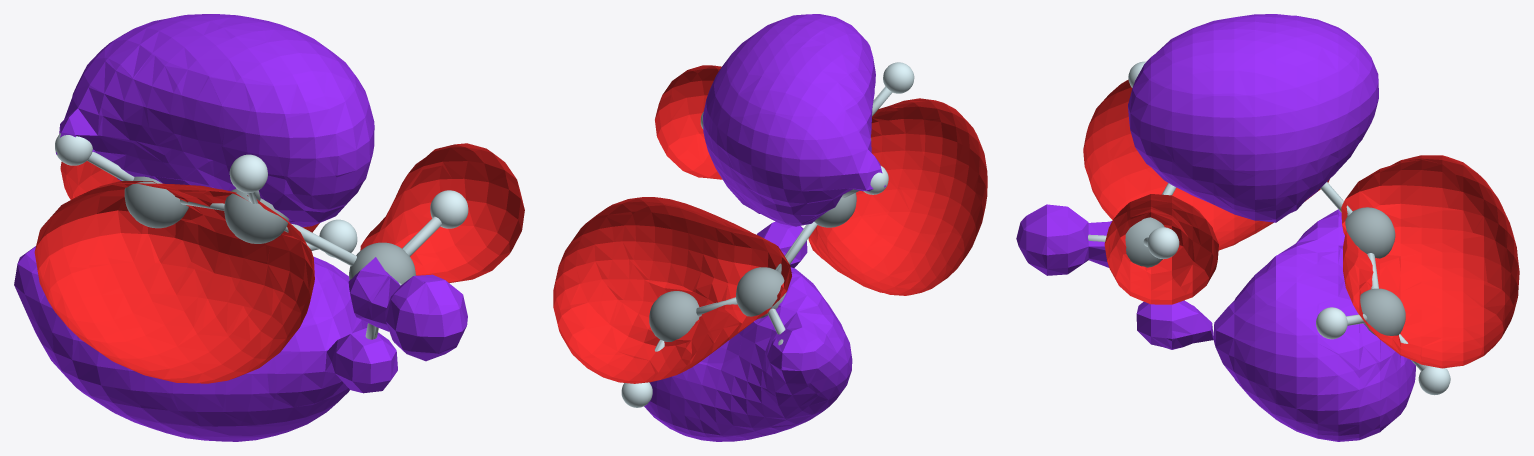
The picture shows the model from 3 angles, left to right: view 1: azimuth 30°, elevation 25°; view 2: azimuth 150°, elevation 25°; view 3: azimuth 270°, elevation 25°; orthographic projection. The views are drawn at different scales.
Parts seen in each view (by area): view 1: Renderer Node; view 2: Renderer Node; view 3: Renderer Node.
Boxes of the visible parts, x1,y1,x2,y2 form: Renderer Node: (14,14,524,441); Renderer Node: (553,14,987,441); Renderer Node: (1016,14,1519,441).
Bounding box in the file's own units: 4.97 × 5.26 × 6.29.
